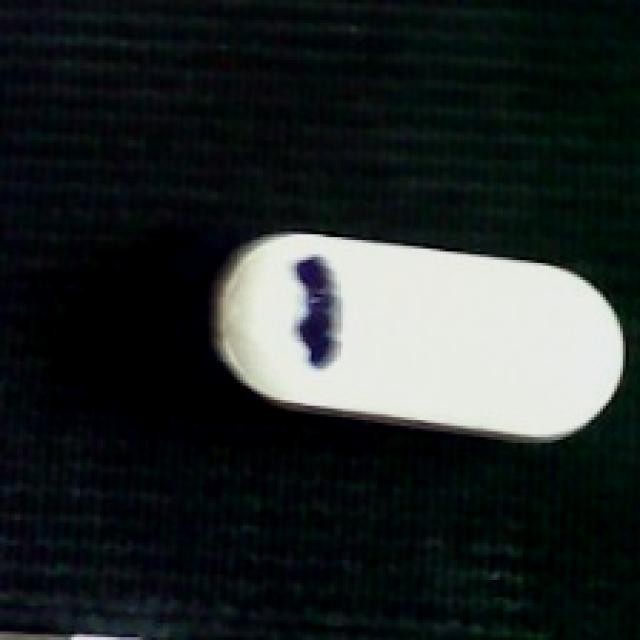defected: (197, 234, 629, 443)
